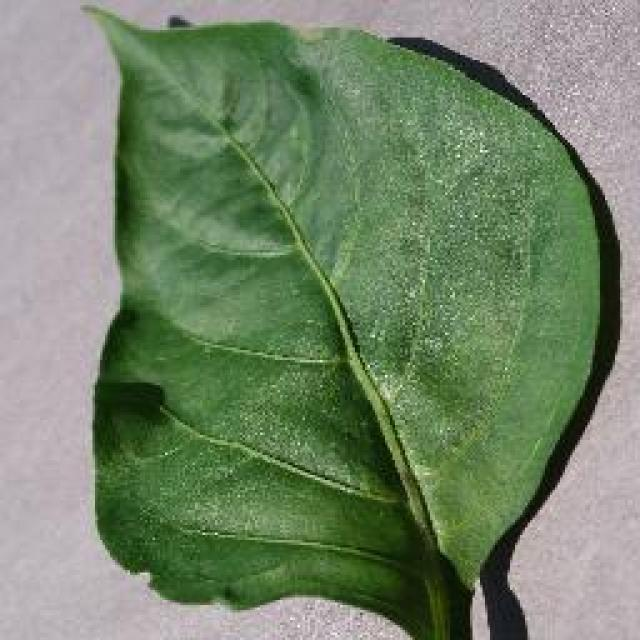Chilli_Healthy: (78, 2, 620, 638)
